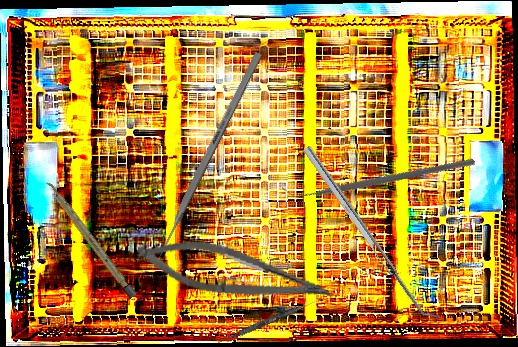Chopper: (280, 78, 477, 272)
Micro Scissor: (133, 230, 339, 312)
Pusher: (151, 51, 263, 268)
Scalpel Handle: (43, 179, 138, 300)
Spatula Surgical: (302, 140, 441, 327), (217, 294, 324, 347)
